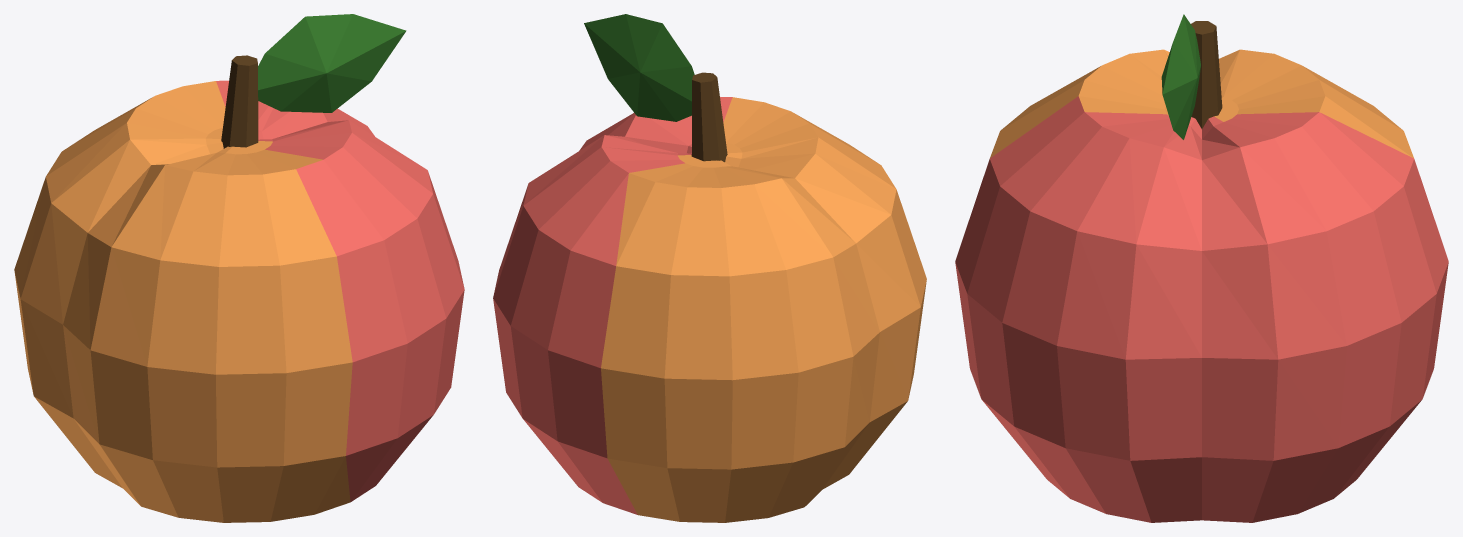
Rendered from PeachFruit.glb.
3 renders of one model, left to right at view 1: azimuth 30°, elevation 25°; view 2: azimuth 150°, elevation 25°; view 3: azimuth 270°, elevation 25°, orthographic. The views are drawn at different scales.
Parts seen in each view (by area): view 1: PeachFruit_PeachGold, PeachFruit_PeachBlush, PeachFruit_PeachLeaf, PeachFruit_PeachStem; view 2: PeachFruit_PeachGold, PeachFruit_PeachBlush, PeachFruit_PeachLeaf, PeachFruit_PeachStem; view 3: PeachFruit_PeachBlush, PeachFruit_PeachGold, PeachFruit_PeachLeaf, PeachFruit_PeachStem.
Part boxes in pixels (left/top/right/bottom): PeachFruit_PeachGold: left=14, top=81, right=352, bottom=522; PeachFruit_PeachBlush: left=216, top=80, right=464, bottom=501; PeachFruit_PeachLeaf: left=258, top=14, right=406, bottom=112; PeachFruit_PeachStem: left=221, top=55, right=258, bottom=148; PeachFruit_PeachGold: left=601, top=97, right=926, bottom=522; PeachFruit_PeachBlush: left=493, top=97, right=732, bottom=514; PeachFruit_PeachLeaf: left=584, top=14, right=694, bottom=121; PeachFruit_PeachStem: left=691, top=72, right=727, bottom=162; PeachFruit_PeachBlush: left=955, top=96, right=1448, bottom=522; PeachFruit_PeachGold: left=990, top=49, right=1413, bottom=158; PeachFruit_PeachLeaf: left=1161, top=14, right=1200, bottom=139; PeachFruit_PeachStem: left=1191, top=21, right=1222, bottom=128.
Bounding box in the file's own units: 0.9378 × 1.14 × 1.
